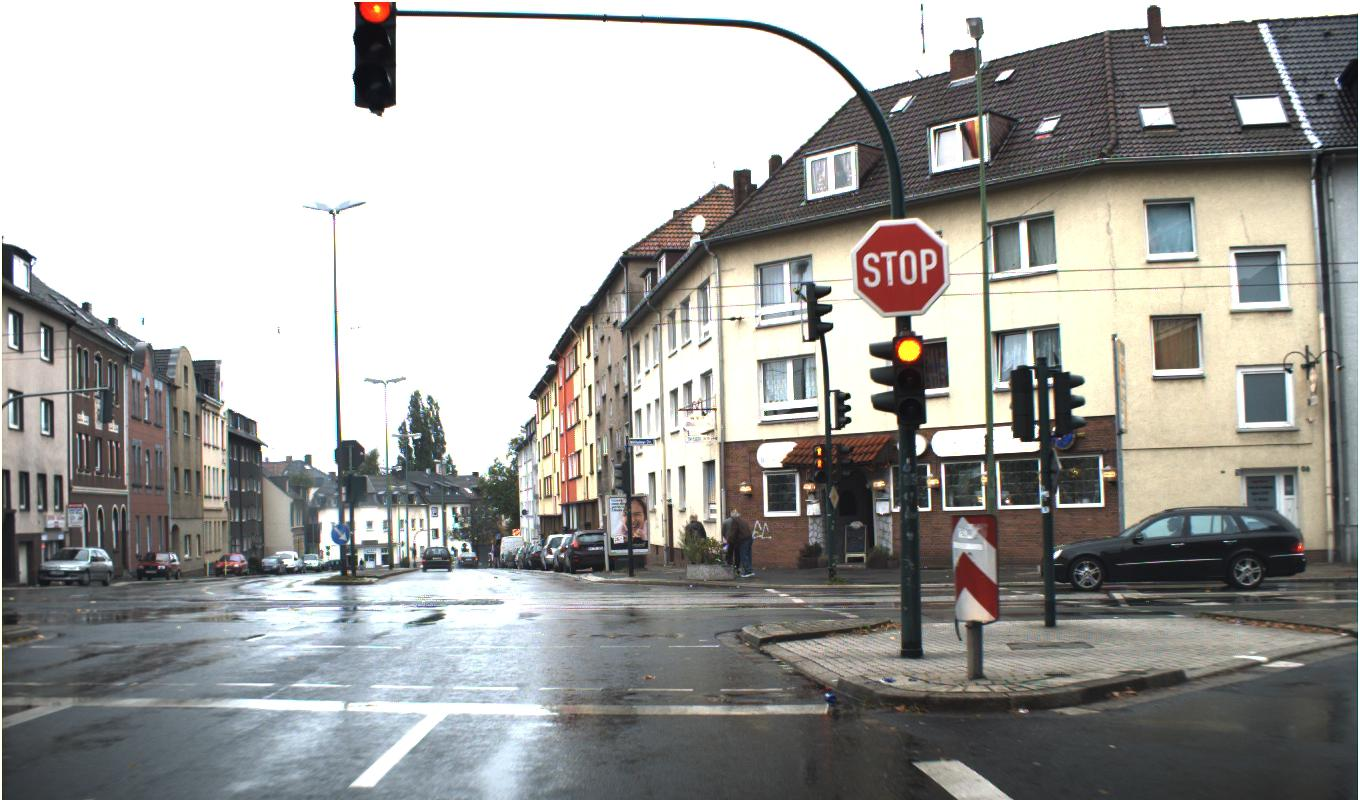mandatory: (330, 523, 351, 545)
sign: (850, 218, 950, 317)
